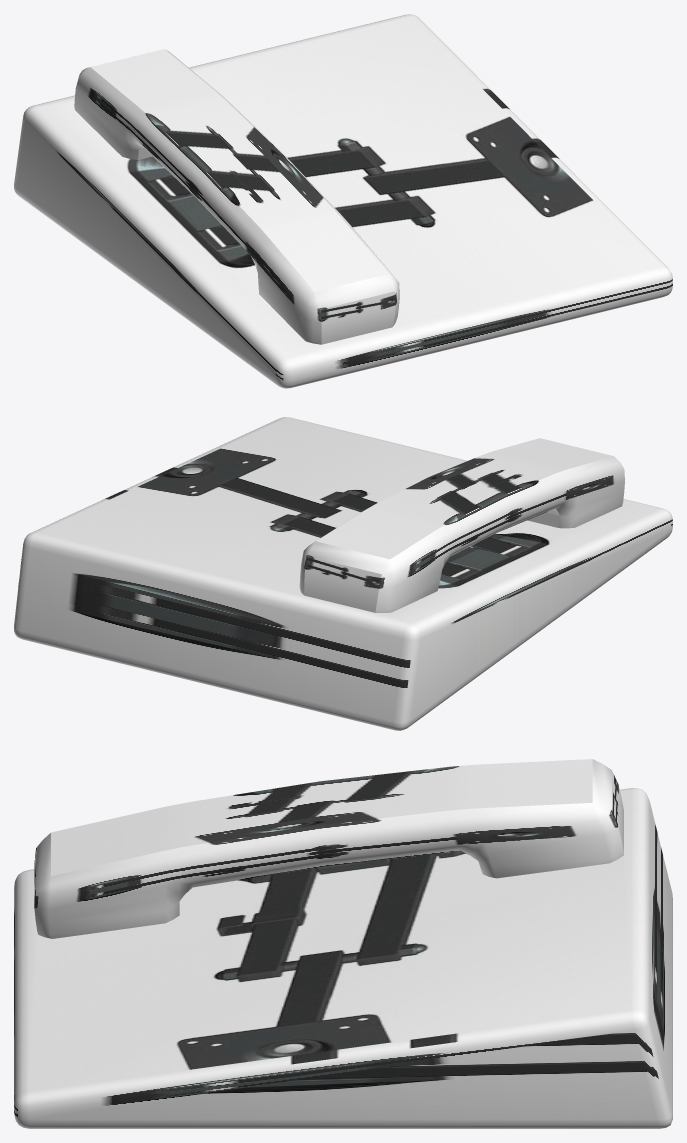
The picture shows the model from 3 angles, top to bottom: view 1: azimuth 30°, elevation 25°; view 2: azimuth 150°, elevation 25°; view 3: azimuth 270°, elevation 25°; orthographic projection. The views are drawn at different scales.
Visible parts, largest first — view 1: Box001, Box002; view 2: Box001, Box002; view 3: Box001, Box002.
Boxes of the visible parts, bbox=[...] form: Box001: bbox=[14, 14, 672, 388]; Box002: bbox=[74, 49, 399, 344]; Box001: bbox=[14, 417, 672, 730]; Box002: bbox=[299, 438, 624, 612]; Box001: bbox=[14, 788, 672, 1128]; Box002: bbox=[34, 759, 623, 938].
Size of the model in its own units: 15 by 5.1 by 17.93.
1 material, 1 textured.
